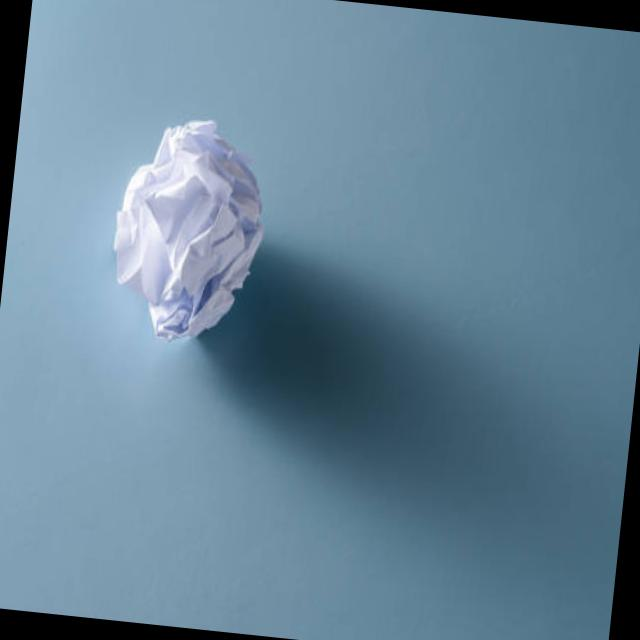electronic: (102, 108, 274, 348)
